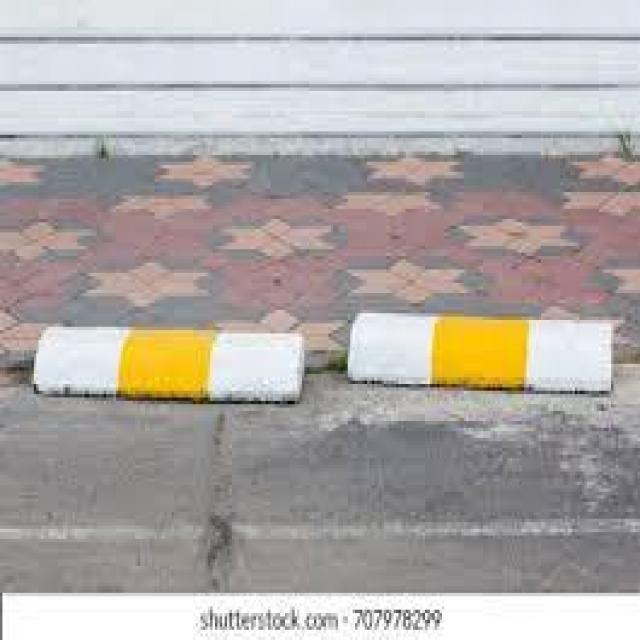curb: (34, 324, 610, 398)
